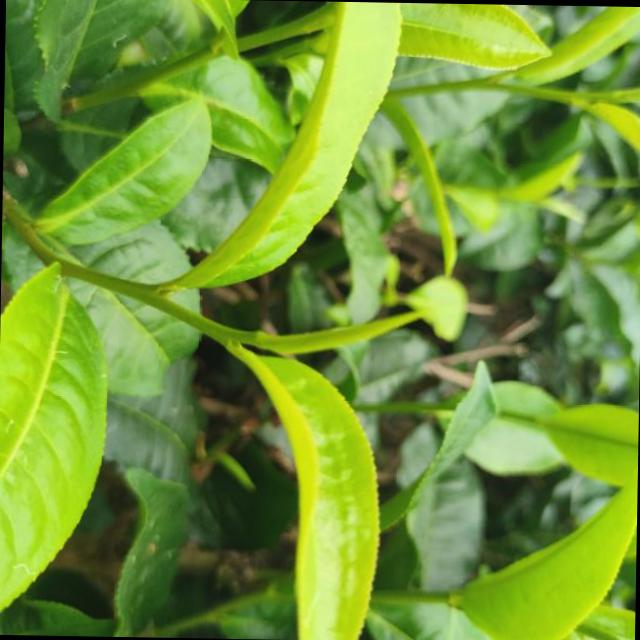Stem: (202, 318, 229, 342)
